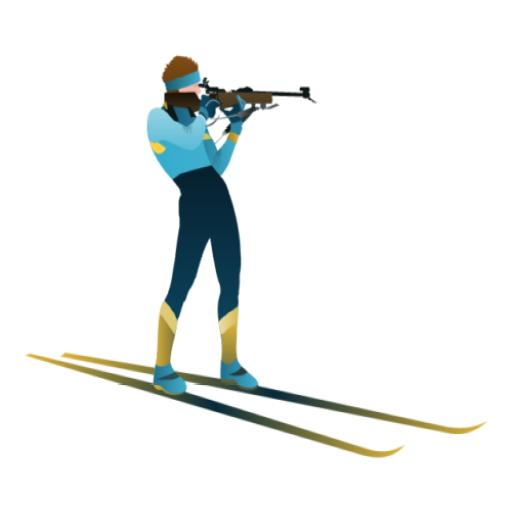shooting: (145, 54, 261, 398)
